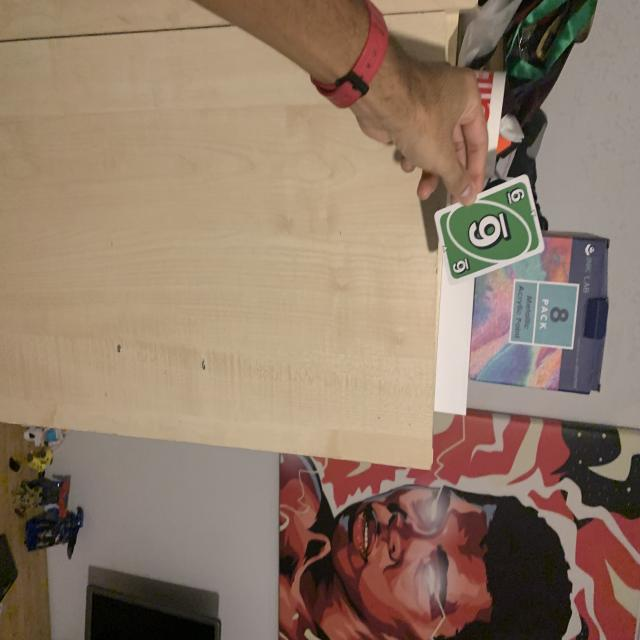lgreen-6: (503, 185, 528, 208)
